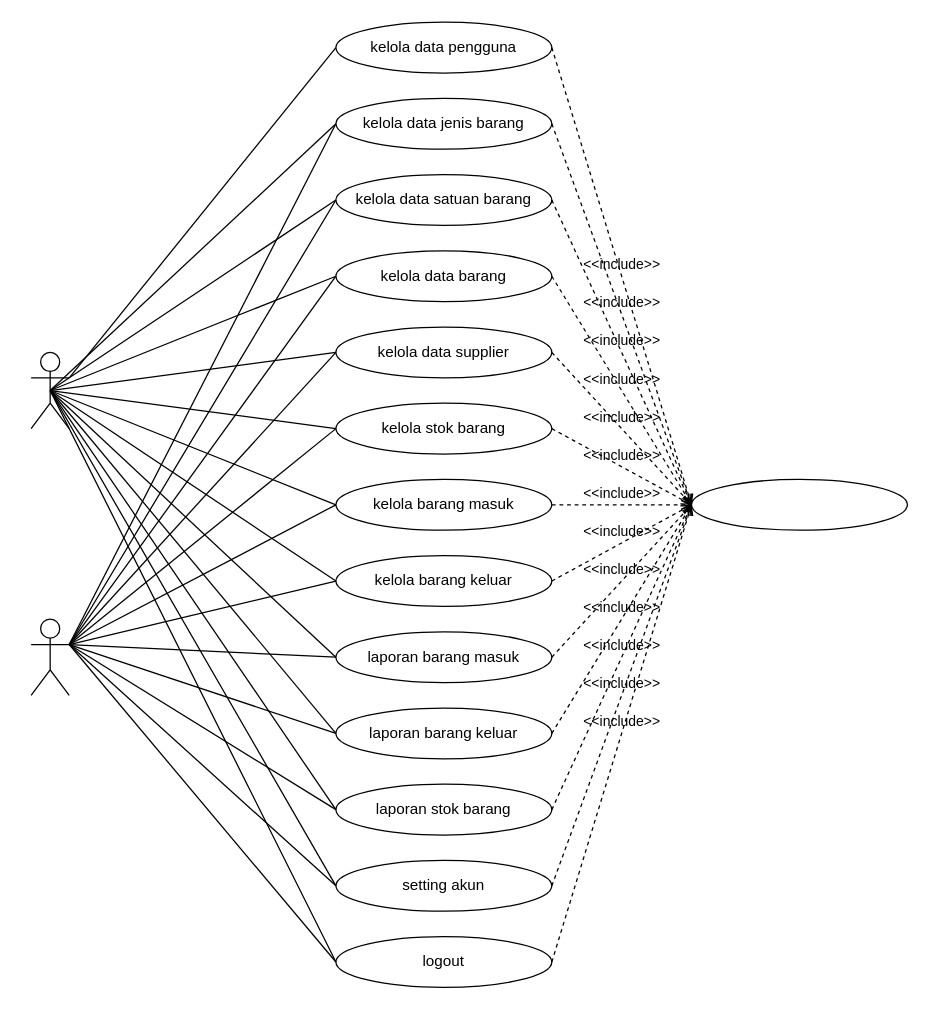
Image size: 930x1010. Some labels were removed from this diagram. The shapes that lost their labels are listed below. From the top down, each one's centre as x and y in pixels, then its label:
At point 49,390: "admin".
At point 798,504: "login".
At point 49,656: "pegawai".
